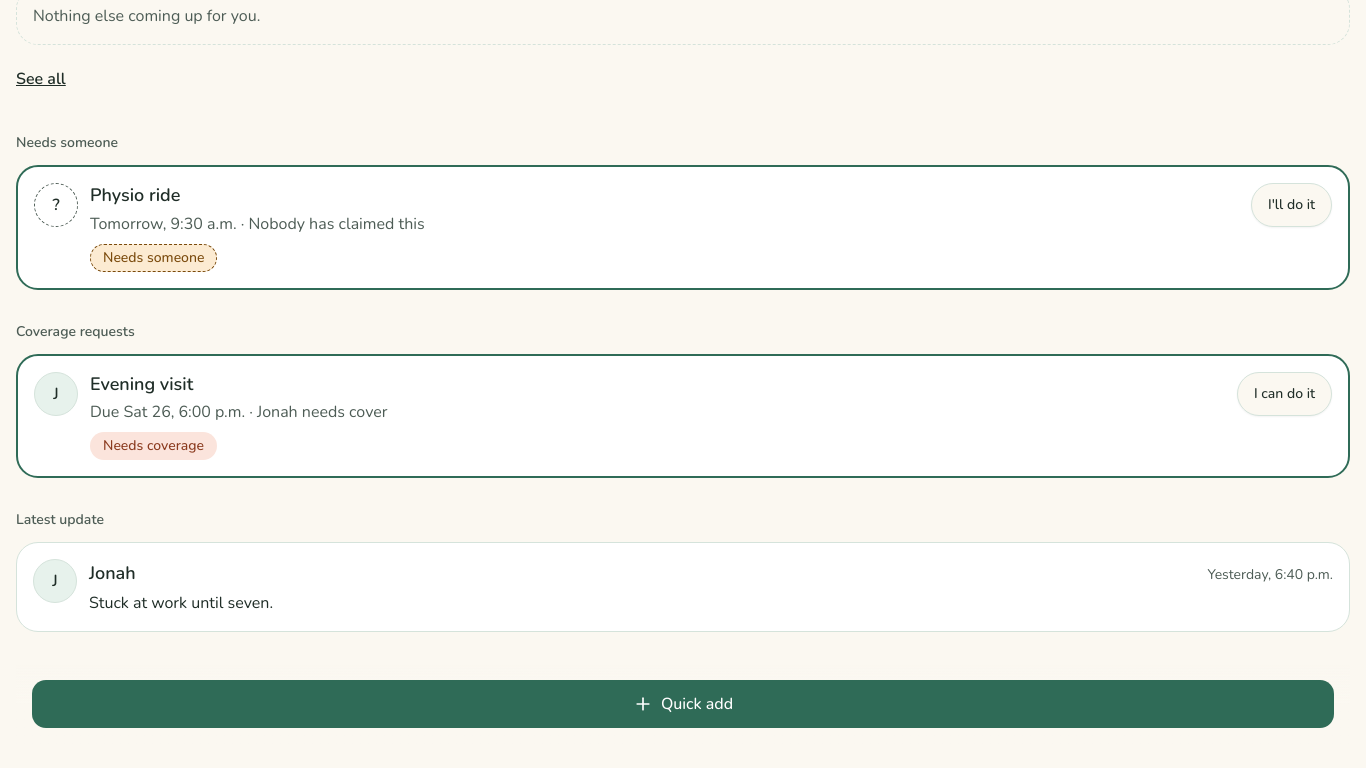
Test: I can do it takes a coverage request in one tap, and says who got there first
(page scrolled)
Expected: the text "Due Sat 26, 6:00 p.m. · Jonah needs cover" is shown, [90,401,388,423]
Click the button "I can do it": (1284, 394) [1237,372,1332,416]
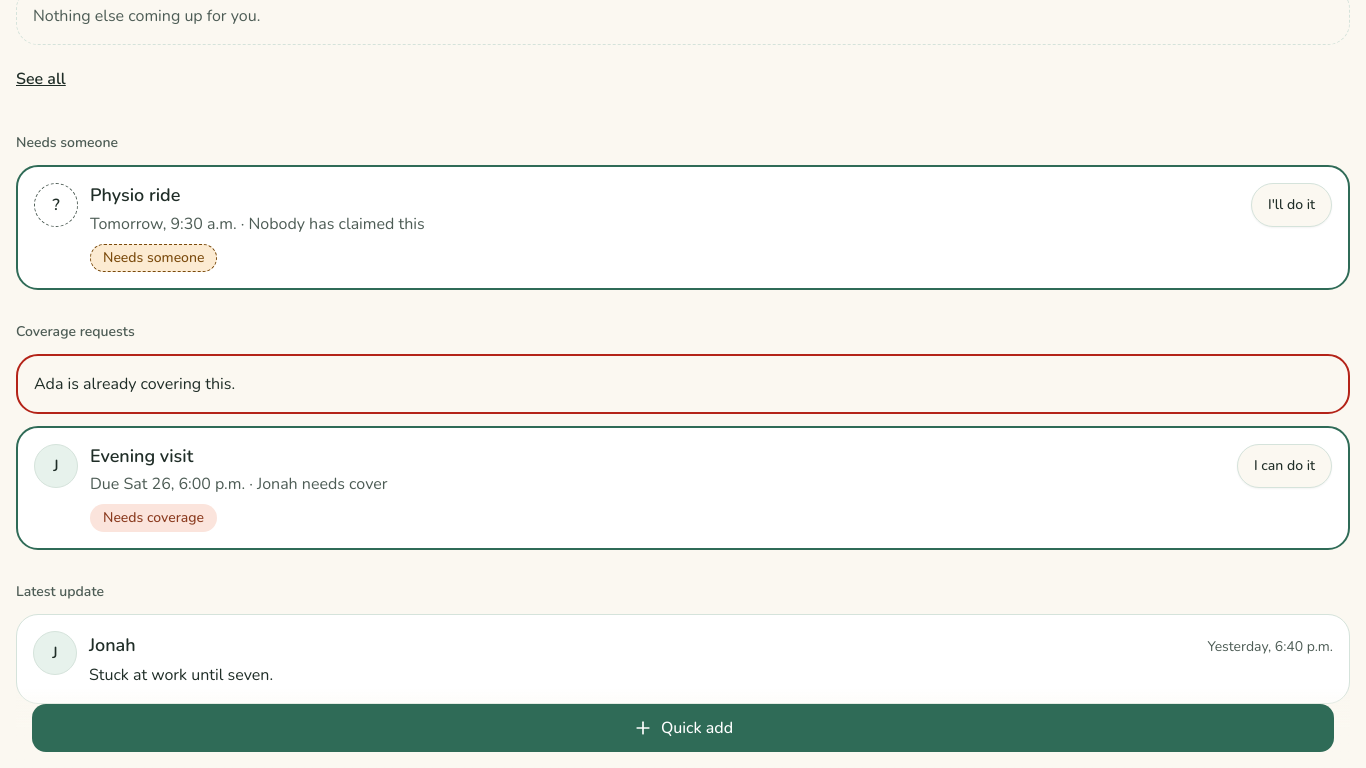
Now the message reads "Ada is already covering this.", box [34,372,235,394]
